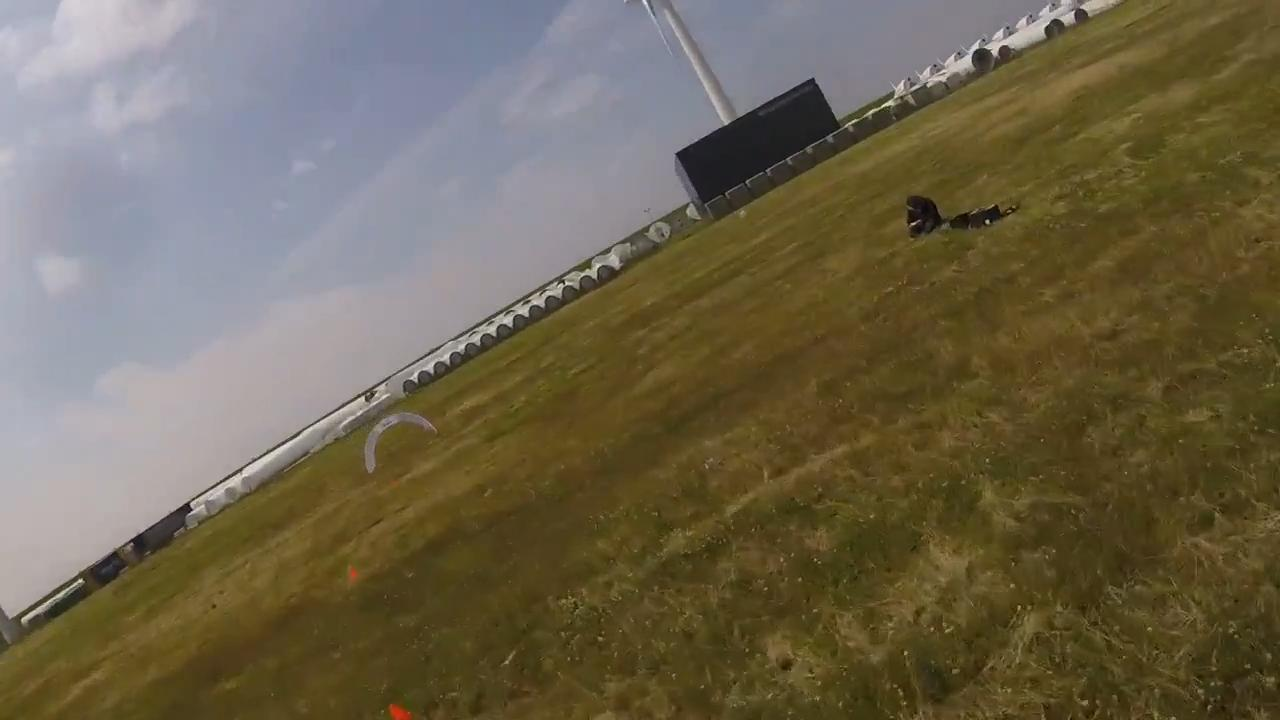gate: (362, 410, 437, 476)
